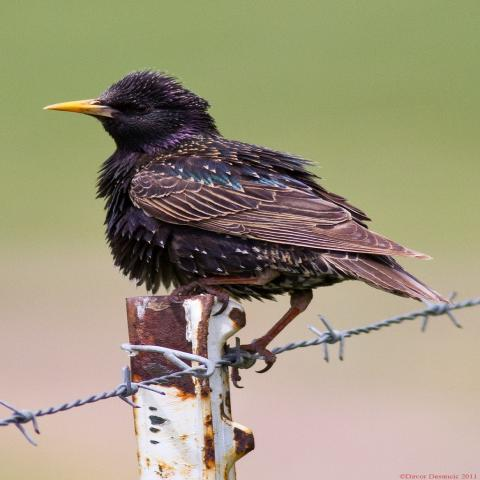bird: (41, 67, 455, 372)
